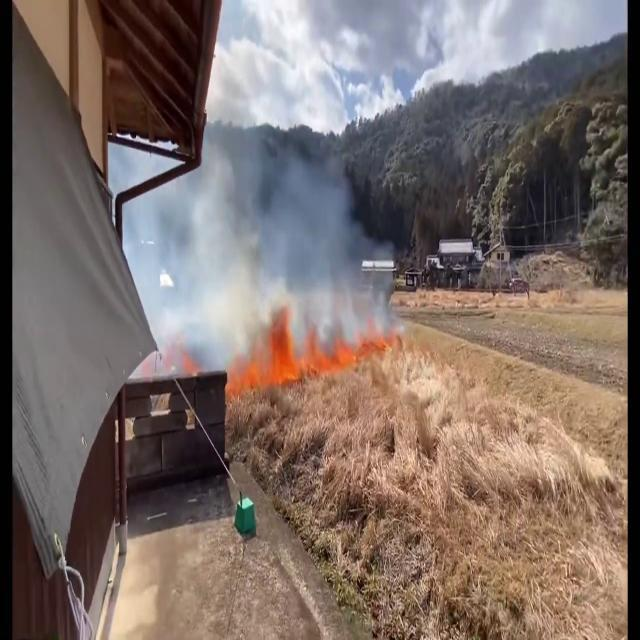Fire: (233, 308, 375, 390)
Smoke: (159, 79, 387, 364)
